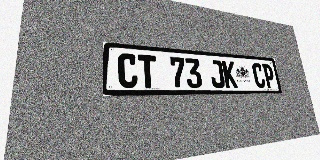3: (185, 58, 202, 88)
7: (169, 57, 187, 88)
C: (118, 53, 138, 88), (251, 63, 266, 88)
J: (209, 60, 225, 88)
K: (222, 61, 238, 88)
P: (262, 64, 276, 88)
T: (138, 54, 157, 88)
